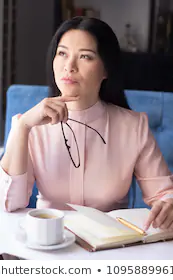C_blouse: (4, 96, 173, 218)
